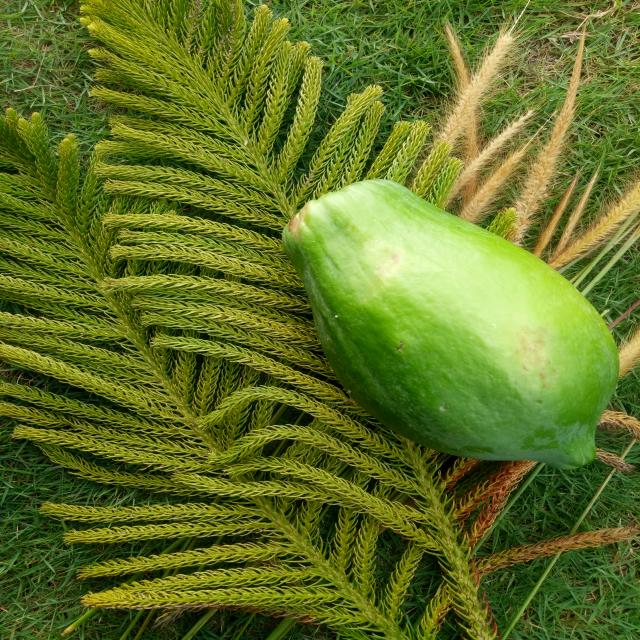Pepaya unrippen: (277, 176, 620, 482)
